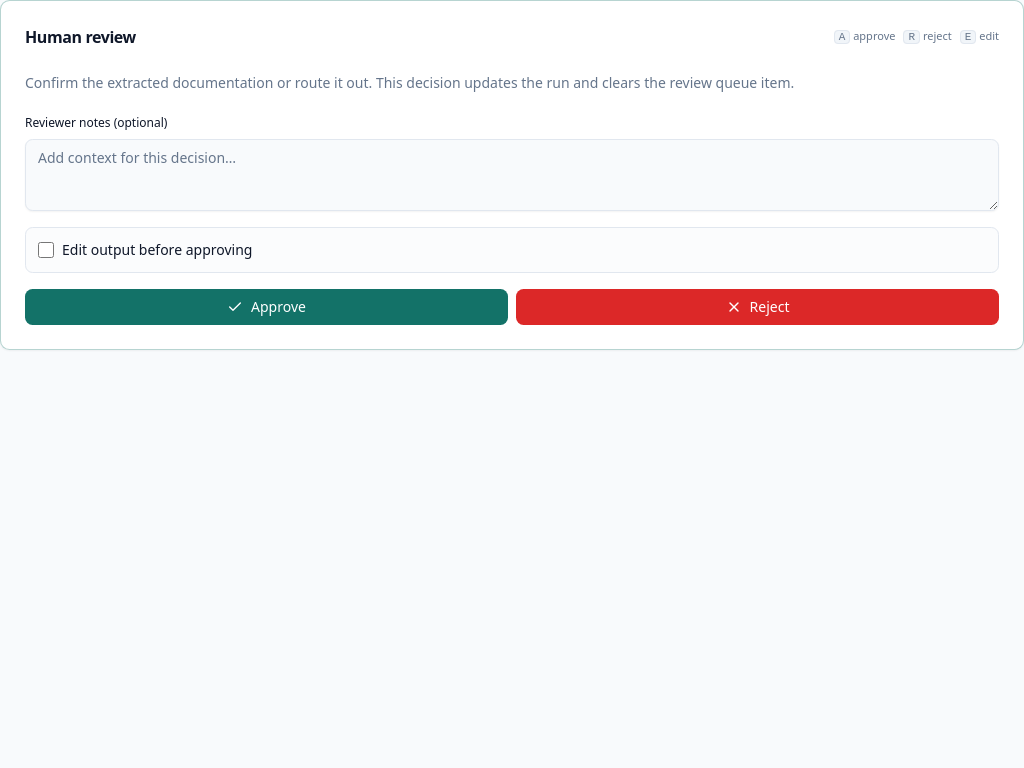
Scenario: ReviewActions › rejects a non-object edited payload (array) as invalid
Click the checkbox labelled "Edit output before approving": (46,250) [38,242,54,258]
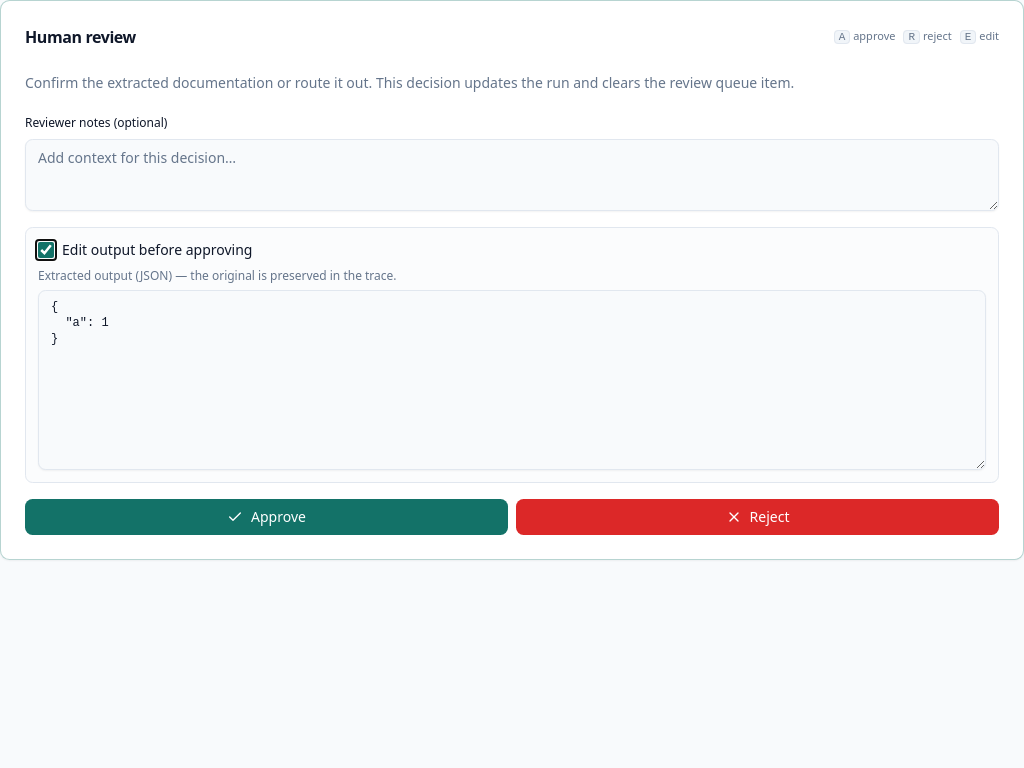
Replace the text in the text box named "edited output json" with "[1, 2, 3]": (512,380) [38,290,986,470]
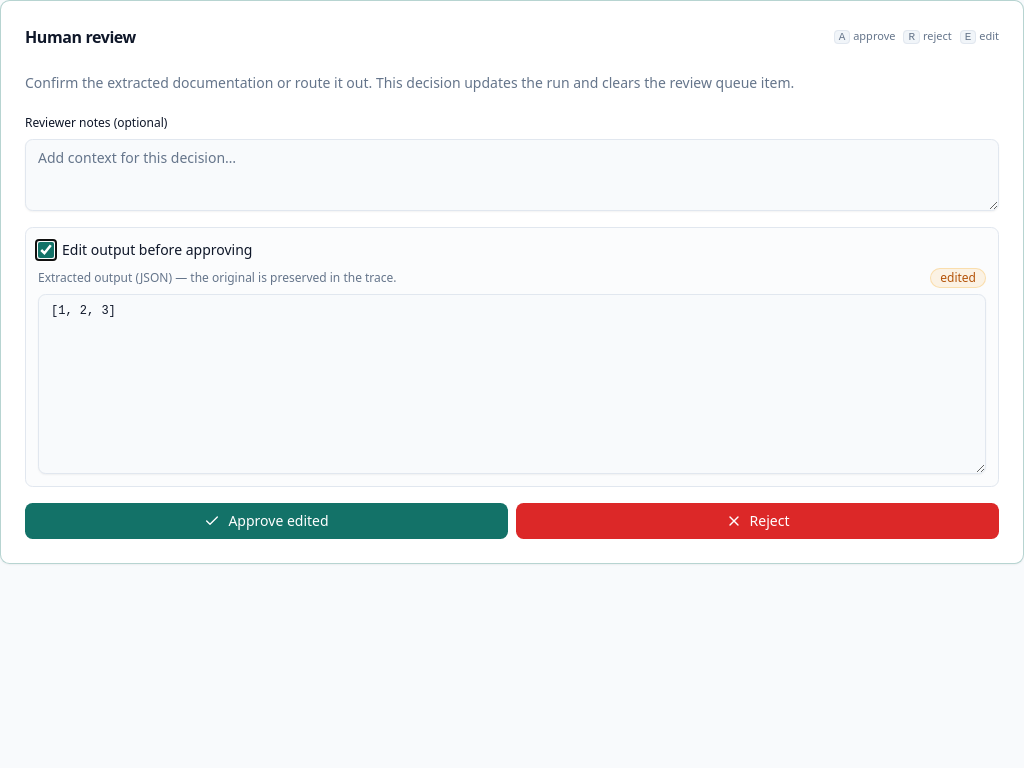
Click the button "Approve edited": (266,521) [25,503,508,539]
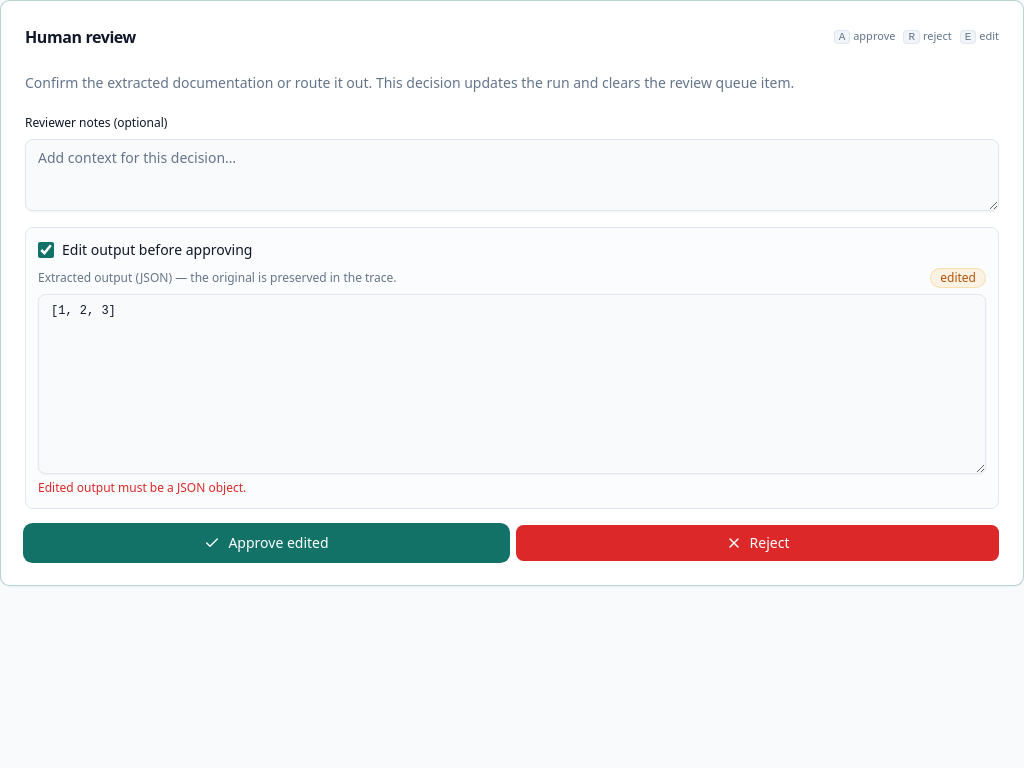
Expected: the message shows "must be a JSON object", [38,479,246,496]
